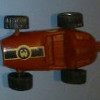rojo: (2, 13, 99, 85)
